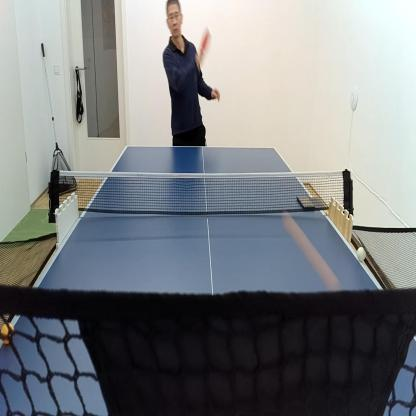Ball: (282, 210, 340, 293), (0, 321, 15, 346), (356, 244, 367, 264)
